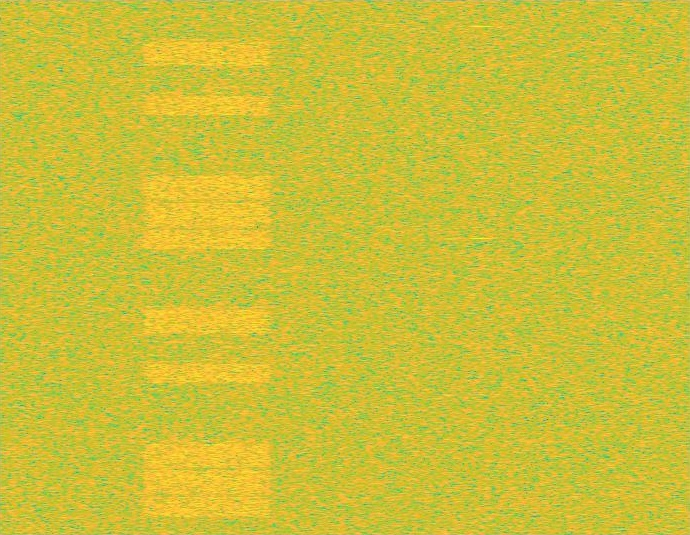LTE: (138, 0, 276, 534)
Radar: (474, 0, 488, 534)
